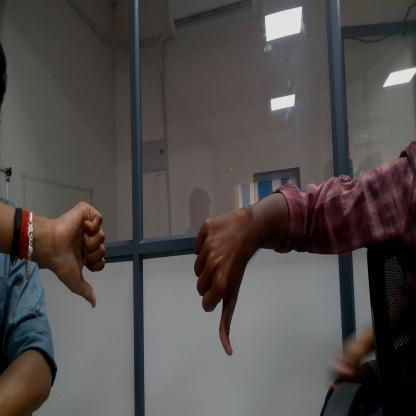Thumbs Down: (184, 200, 252, 366), (54, 195, 115, 330)
